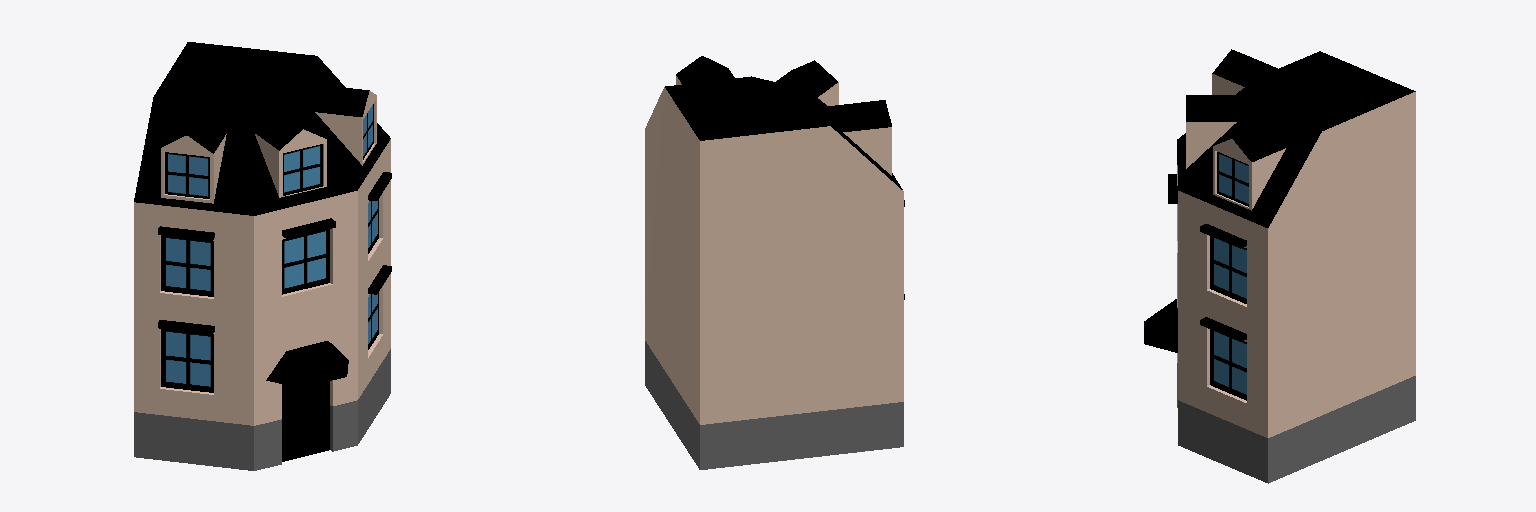
3 renders of one model, left to right at view 1: azimuth 30°, elevation 25°; view 2: azimuth 150°, elevation 25°; view 3: azimuth 270°, elevation 25°, orthographic.
Parts seen in each view (by area): view 1: Cube.099; view 2: Cube.099; view 3: Cube.099.
Part boxes in pixels (left/top/right/bottom): Cube.099: left=134, top=42, right=391, bottom=470; Cube.099: left=645, top=56, right=904, bottom=469; Cube.099: left=1144, top=49, right=1415, bottom=483.
Size of the model in its own units: 6.59 by 8.02 by 6.
Materials: 1 (1 with a texture image).